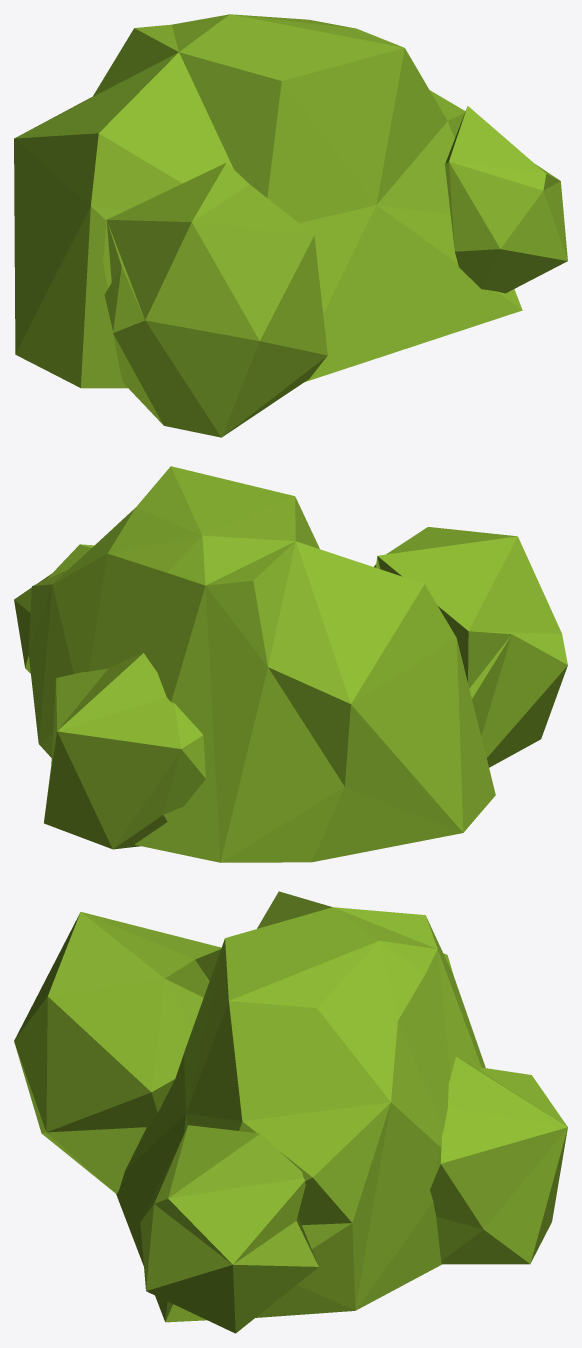
Rendered from busch.fbx.
The picture shows the model from 3 angles, top to bottom: view 1: azimuth 30°, elevation 25°; view 2: azimuth 150°, elevation 25°; view 3: azimuth 270°, elevation 25°; orthographic projection. The views are drawn at different scales.
Visible parts, largest first — view 1: Icosphere, Icosphere.001, Icosphere.003; view 2: Icosphere, Icosphere.002, Icosphere.001, Icosphere.003; view 3: Icosphere, Icosphere.001, Icosphere.003, Icosphere.002.
Part boxes in pixels (x1=…): Icosphere: x1=14, y1=14, x2=522, y2=388; Icosphere.001: x1=103, y1=162, x2=327, y2=437; Icosphere.003: x1=445, y1=106, x2=567, y2=293; Icosphere: x1=28, y1=466, x2=495, y2=862; Icosphere.002: x1=44, y1=653, x2=205, y2=849; Icosphere.001: x1=374, y1=527, x2=567, y2=767; Icosphere.003: x1=14, y1=544, x2=94, y2=673; Icosphere: x1=116, y1=891, x2=485, y2=1322; Icosphere.001: x1=14, y1=912, x2=221, y2=1193; Icosphere.003: x1=140, y1=1125, x2=318, y2=1333; Icosphere.002: x1=430, y1=1057, x2=567, y2=1264.
Bounding box in the file's own units: 312 × 158 × 280.
